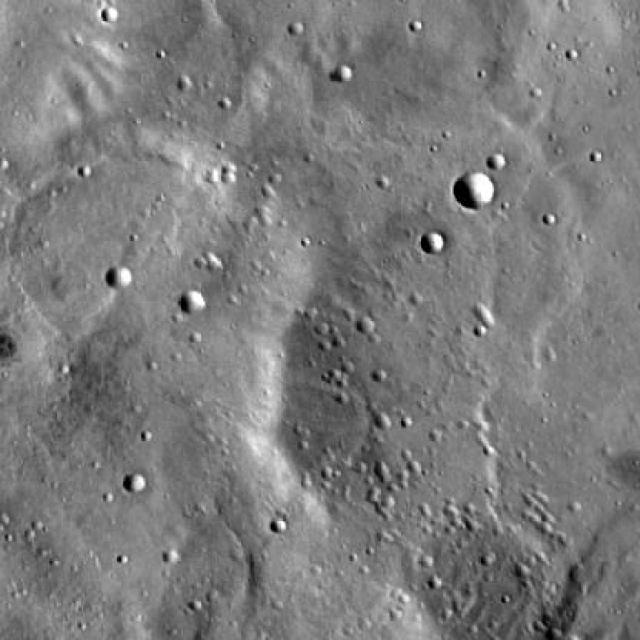crater: (455, 169, 499, 209), (181, 288, 207, 312), (111, 264, 138, 285), (476, 302, 501, 323), (426, 234, 448, 252), (272, 514, 292, 531), (333, 69, 353, 86), (491, 150, 511, 167), (360, 310, 378, 328), (126, 476, 146, 492), (375, 408, 394, 424)
